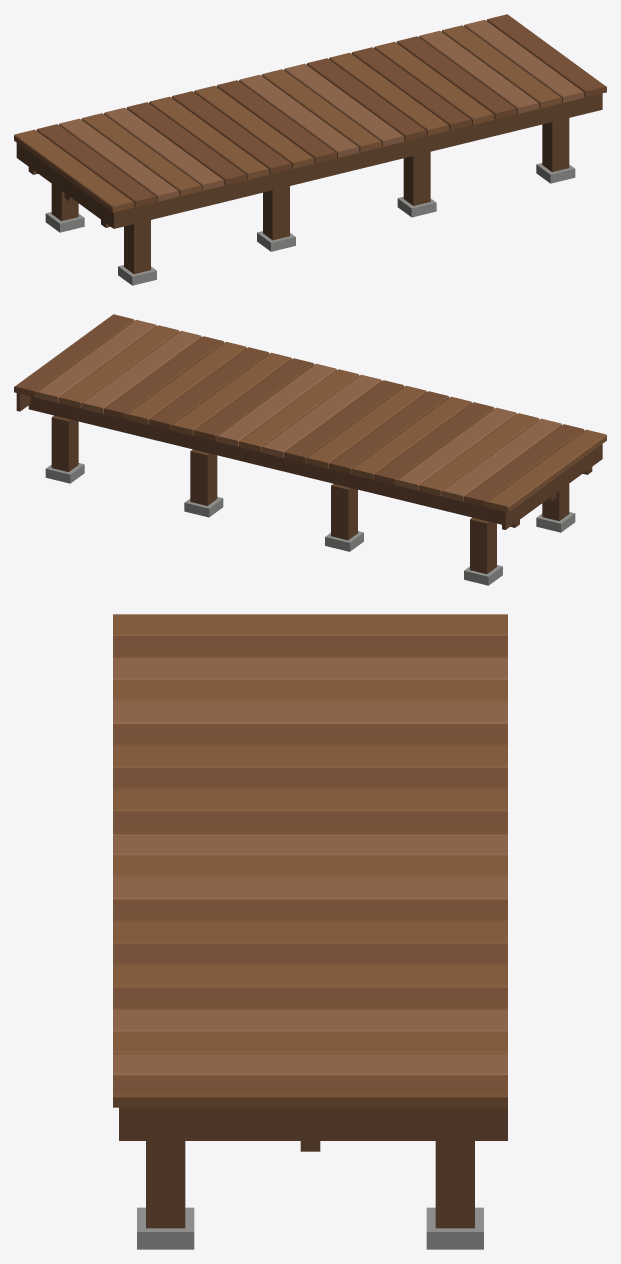
The model's file is wood_deck.glb.
3 views of the same model, one above another, from view 1: azimuth 30°, elevation 25°; view 2: azimuth 150°, elevation 25°; view 3: azimuth 270°, elevation 25° (orthographic). The views are drawn at different scales.
Parts seen in each view (by area): view 1: WoodDeck; view 2: WoodDeck; view 3: WoodDeck.
Part boxes in pixels (x1,y1,x2,y2): WoodDeck: [14, 14, 606, 285]; WoodDeck: [14, 314, 606, 585]; WoodDeck: [113, 614, 507, 1249].
Size of the model in its own units: 2.6 by 0.45 by 0.9.
